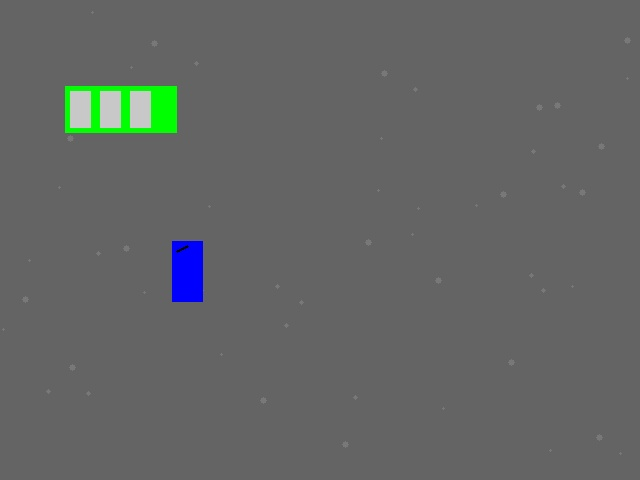bus: (65, 86, 176, 132)
motorcycle: (172, 241, 202, 301)
